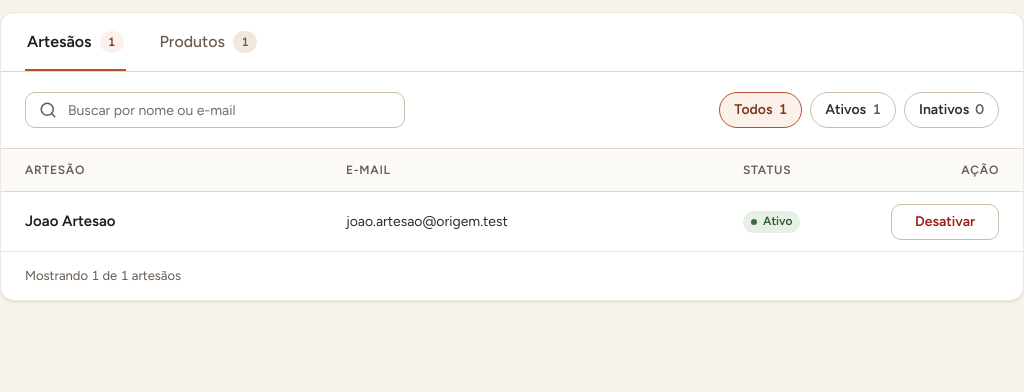
Test: PainelModeracao › desativa artesao apos confirmar e mostra sucesso
Click the button "Desativar".
click(945, 222)  # box [891,204,999,240]
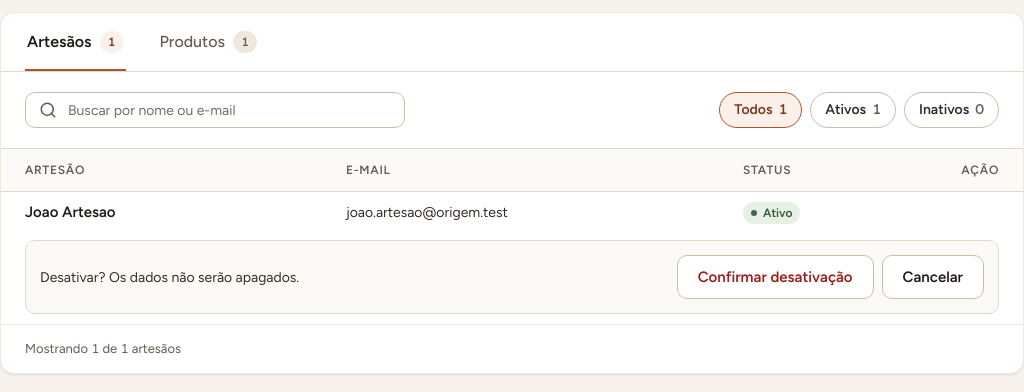
Click the button "Confirmar desativação".
click(775, 277)  # box [677,255,874,299]
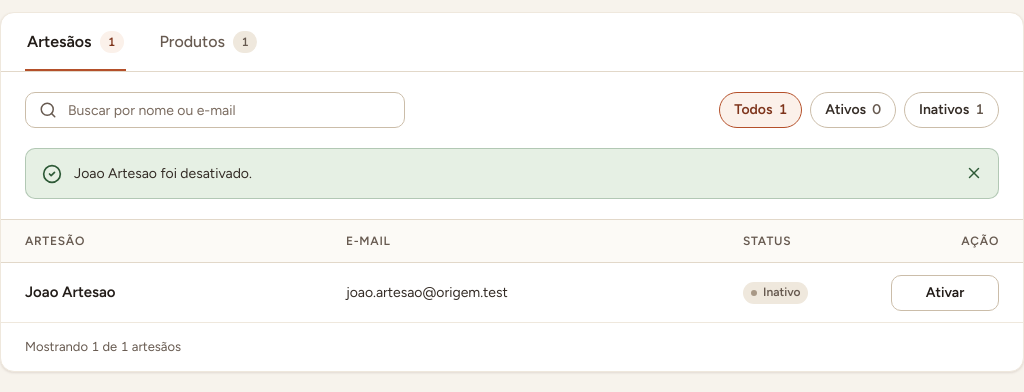
Now the text "Joao Artesao foi desativado." is shown, box [74,165,252,182]
Now the list item "Joao Artesao" shows "Inativo", box [763,285,800,299]
